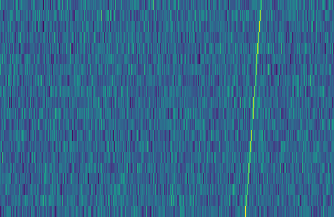signal: (242, 0, 268, 217)
